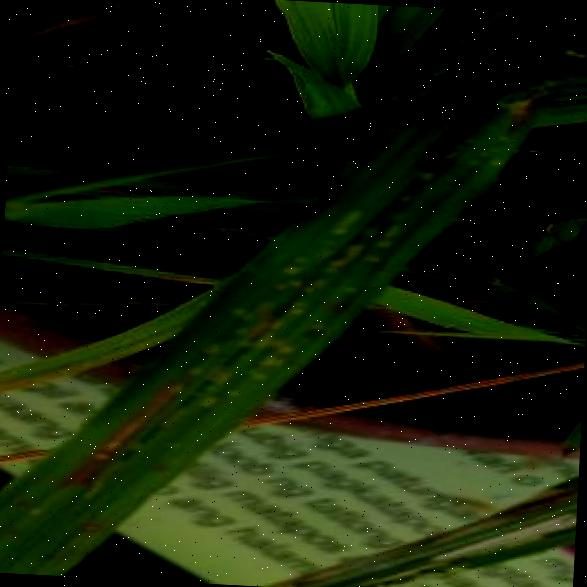Leaf_smut: (35, 347, 188, 501)
